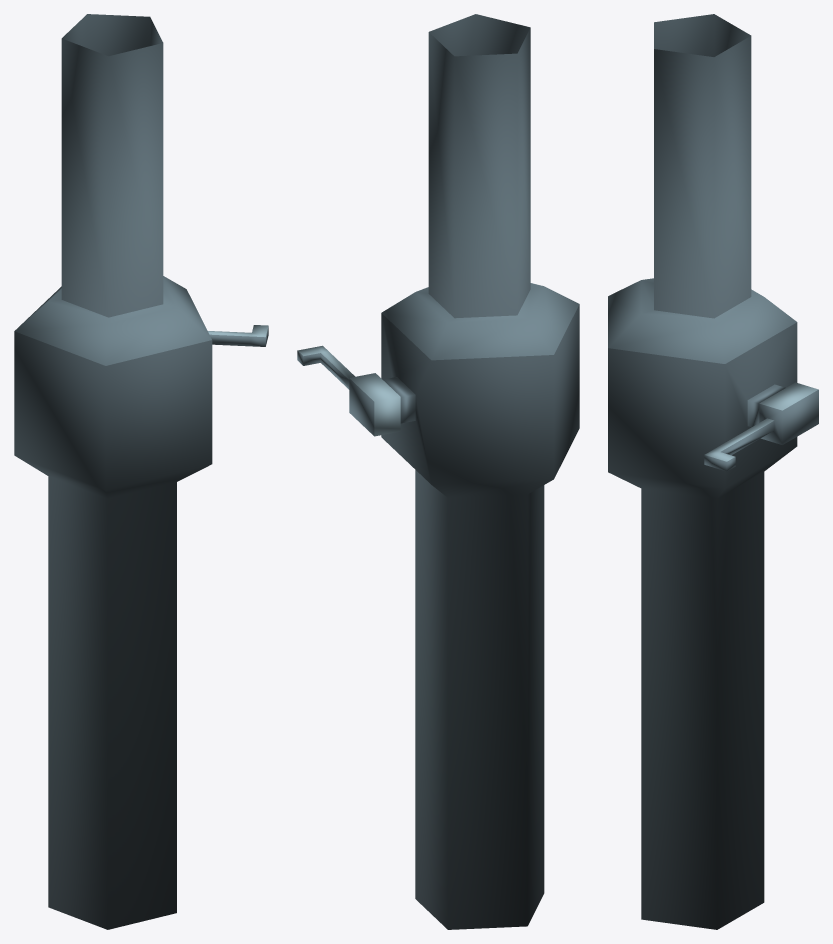
The model's file is Hills Hoist.glb.
The picture shows the model from 3 angles, left to right: view 1: azimuth 30°, elevation 25°; view 2: azimuth 150°, elevation 25°; view 3: azimuth 270°, elevation 25°; orthographic projection.
Visible parts, largest first — view 1: Hills Hoist; view 2: Hills Hoist; view 3: Hills Hoist.
Boxes of the visible parts, left/top/right/bottom form: Hills Hoist: left=14, top=14, right=268, bottom=929; Hills Hoist: left=297, top=14, right=579, bottom=929; Hills Hoist: left=608, top=14, right=818, bottom=929.
Bounding box in the file's own units: 0.9744 × 3.16 × 0.6967.
Materials: 1 (1 with a texture image).
